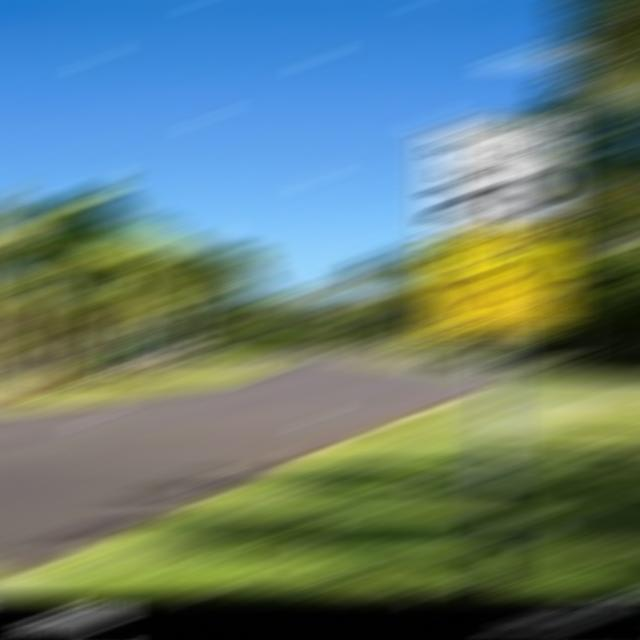speedLimit20: (422, 118, 576, 219)
